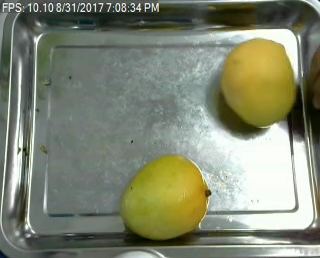Mango: (122, 154, 208, 240), (222, 39, 296, 128)
